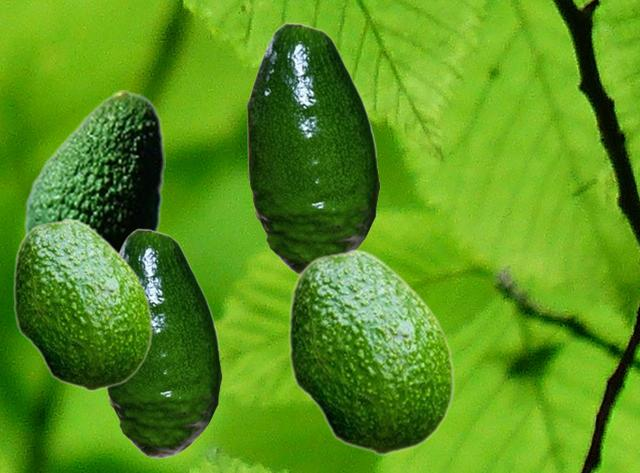avocado: (287, 248, 453, 454), (246, 22, 379, 275), (105, 228, 221, 457), (12, 217, 151, 390), (24, 90, 164, 250)
